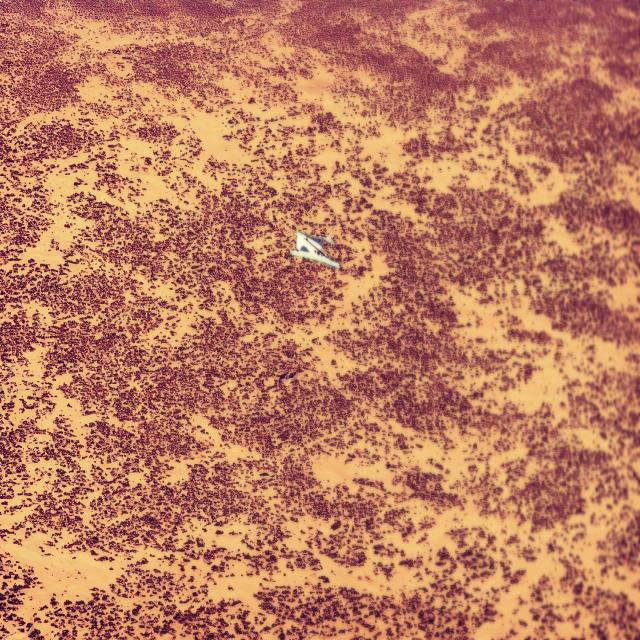airplane: (289, 230, 340, 270)
